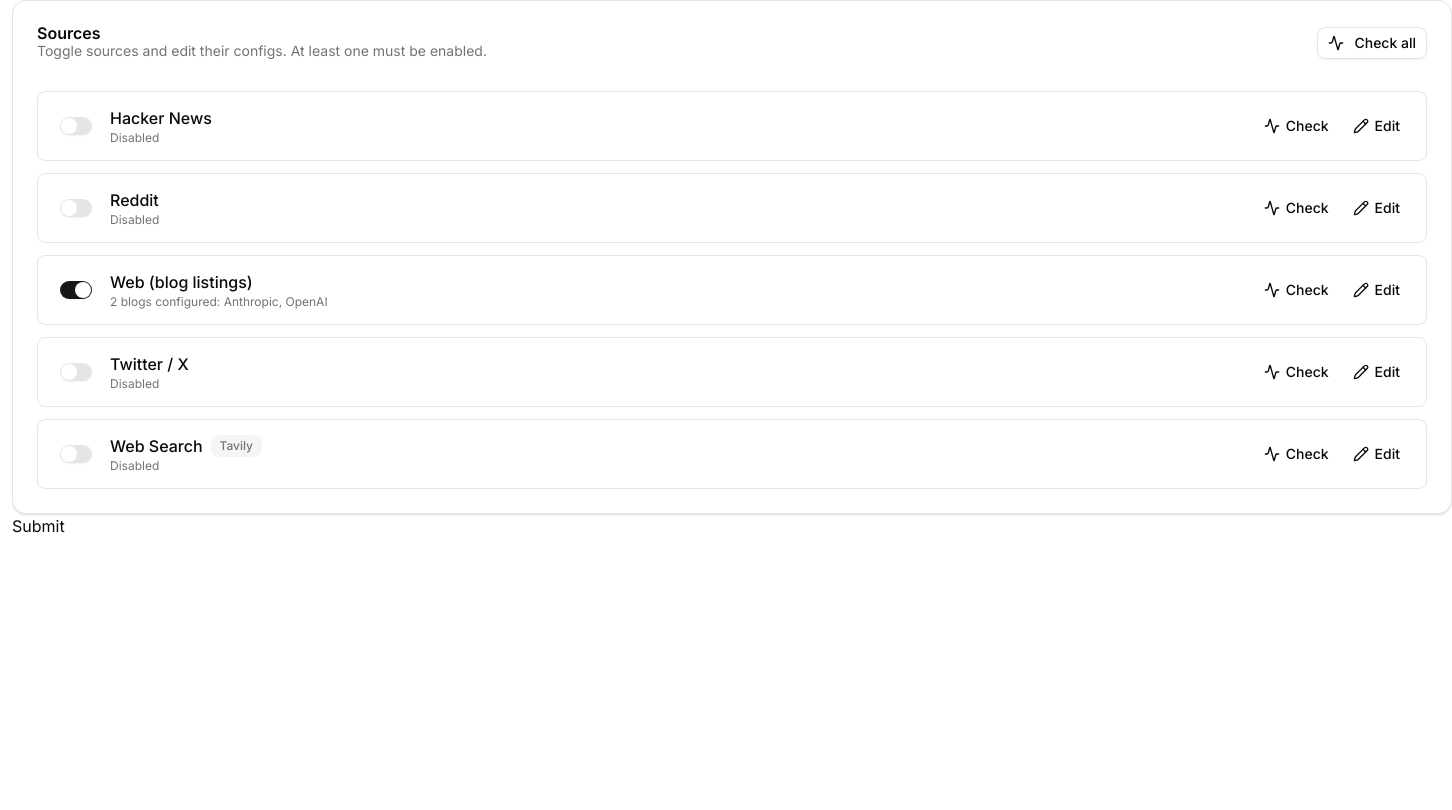
WebEditPanel — per-source Name+URL row inputs › renders one Name and one URL input per source
The width and height of the screenshot is (1452, 810).
Click the button with aria-label "web (blog listings) edit" at (1376, 290), box [1343,268,1410,312]
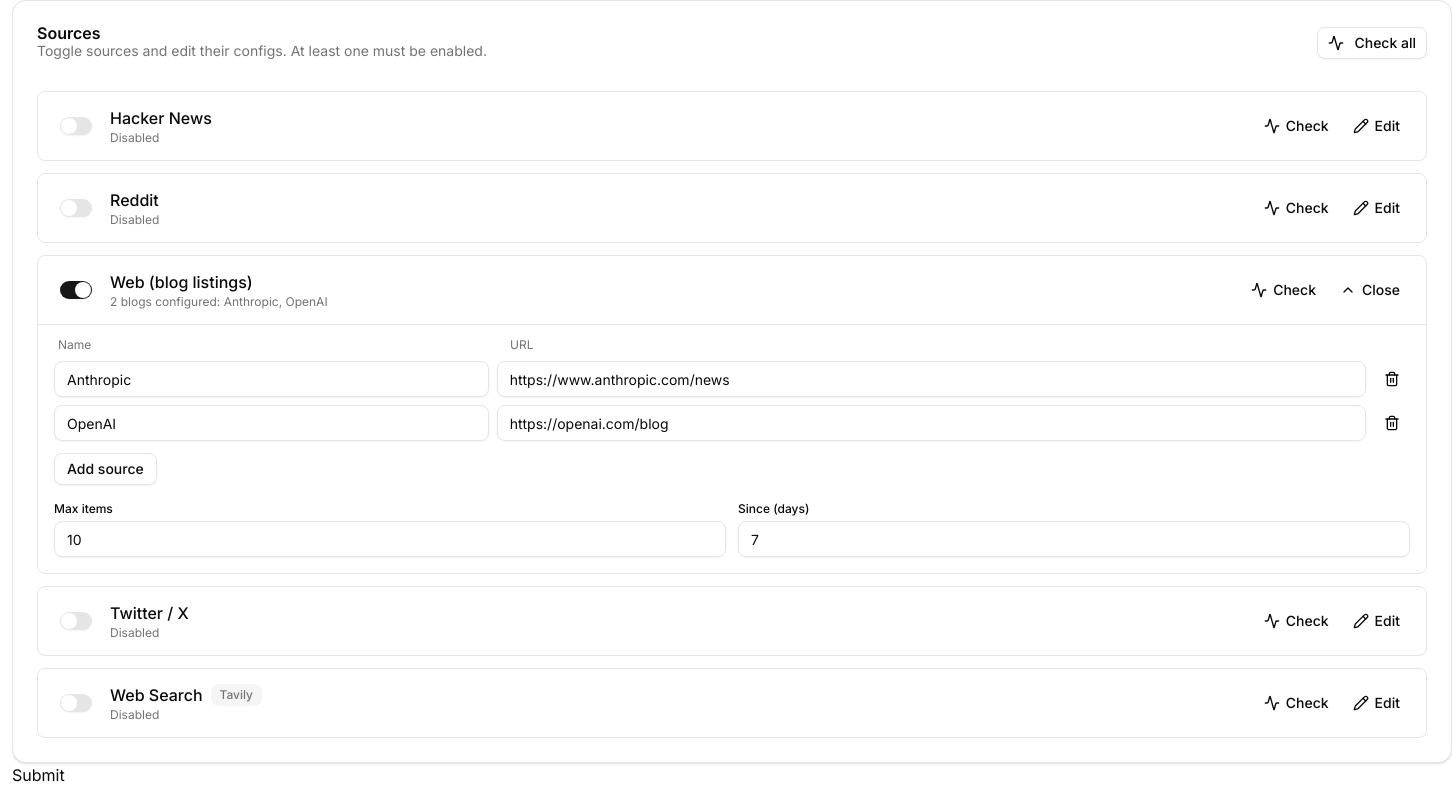
Check: the number of fields with placeholder "Anthropic" is 2, box [54,361,489,397]; [54,405,489,441]
Check: the number of fields with placeholder "https://www.anthropic.com/news" is 2, box [497,361,1366,397]; [497,405,1366,441]
Check: the 1st field with placeholder "Anthropic" holds "Anthropic", box [54,361,489,397]
